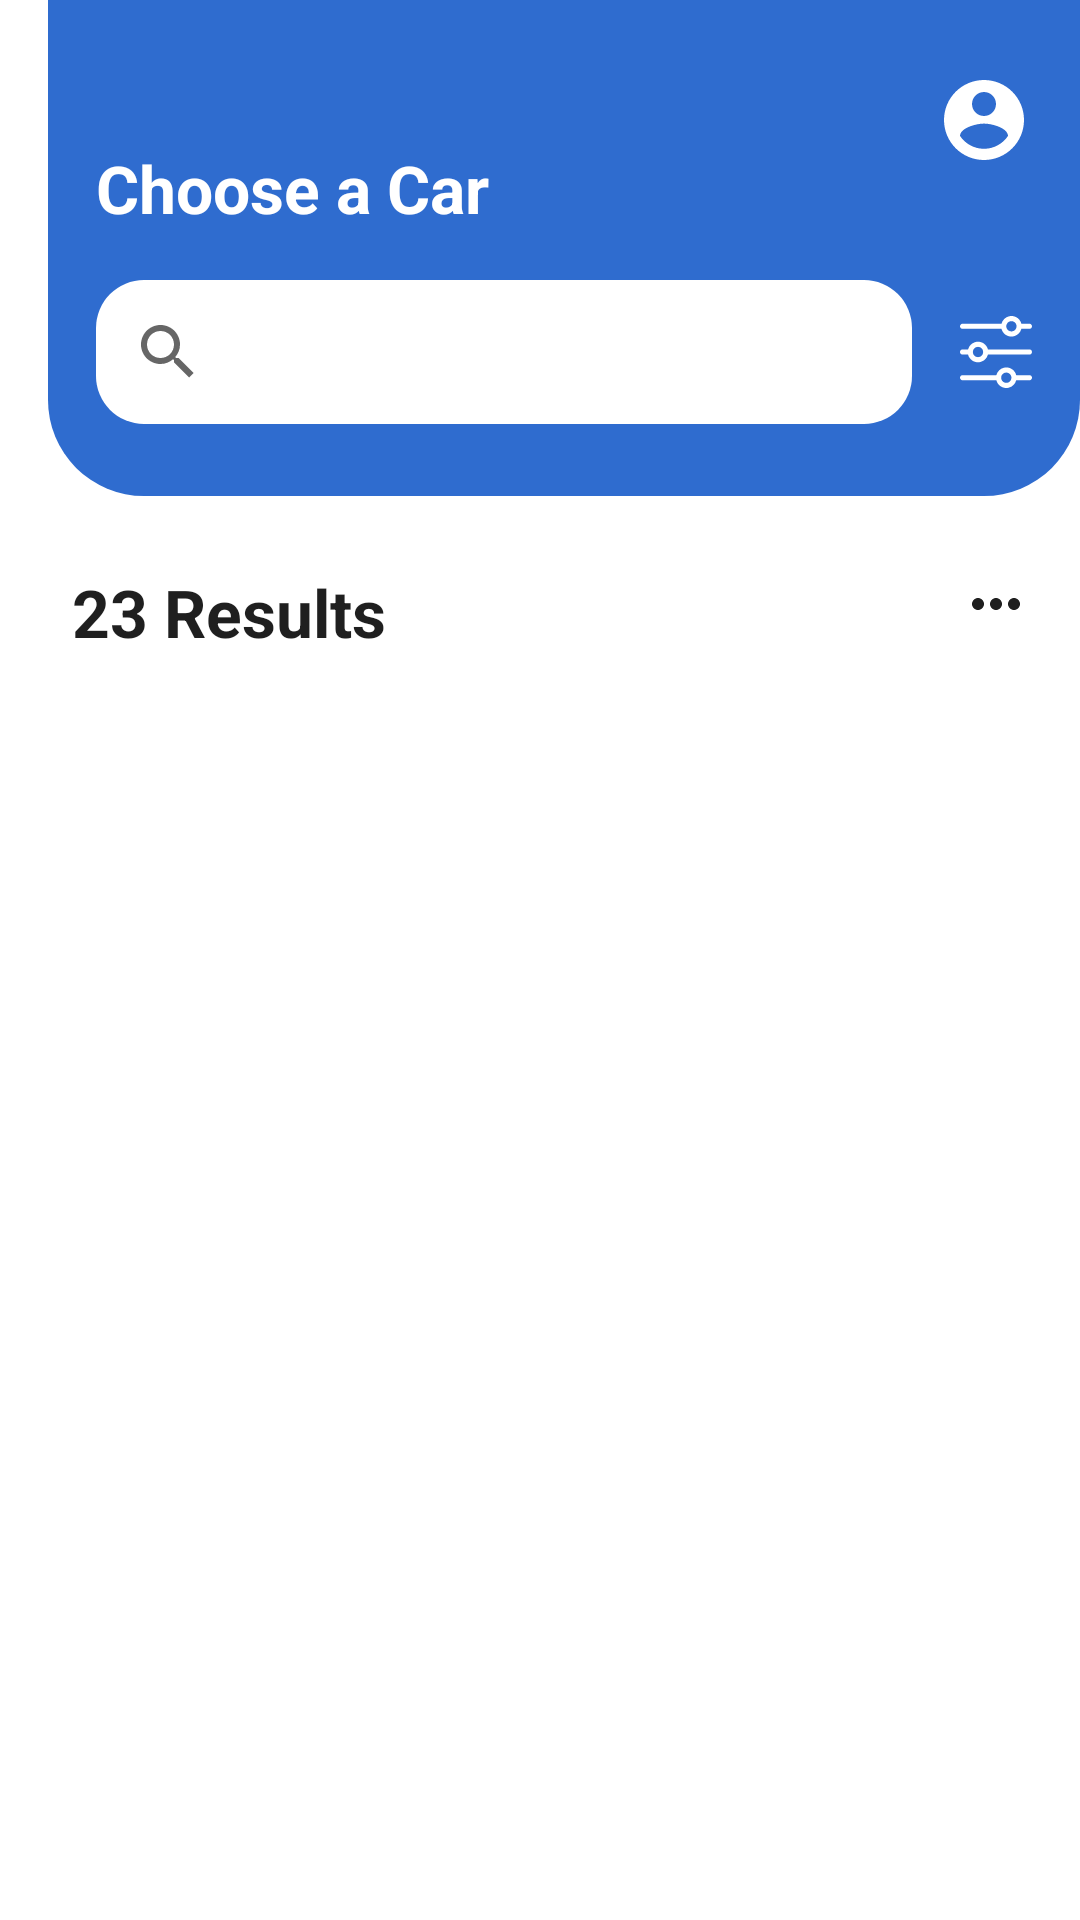

Point at icon controls on the screen. Image size 1080w x 1920h, points as (x,y).
account circle: (984,120)
equalizer: (996,352)
More: (996,604)
